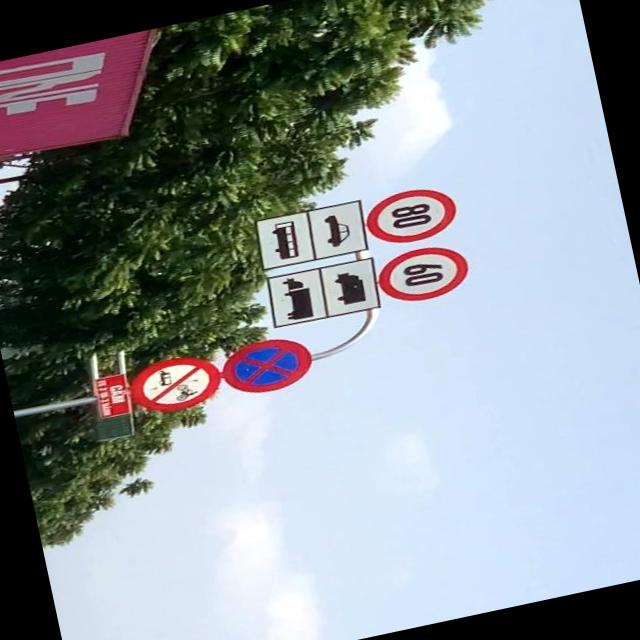P-127: (358, 180, 464, 252), (372, 240, 472, 308)
P-130: (216, 332, 316, 398)
